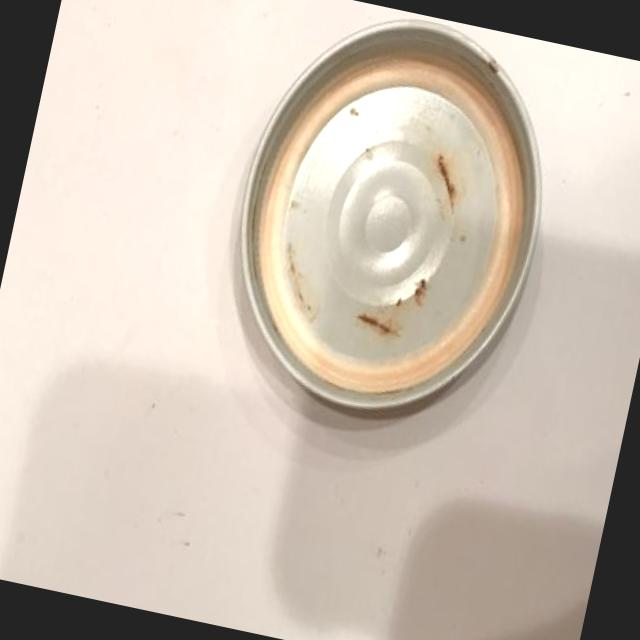kim_loai: (241, 20, 540, 425)
